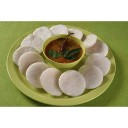idly: (60, 70, 86, 97), (26, 61, 48, 87), (80, 63, 102, 88), (18, 52, 44, 73), (87, 52, 110, 75), (42, 68, 61, 95), (22, 34, 43, 52), (33, 27, 52, 39), (83, 33, 96, 46), (51, 24, 67, 33)
